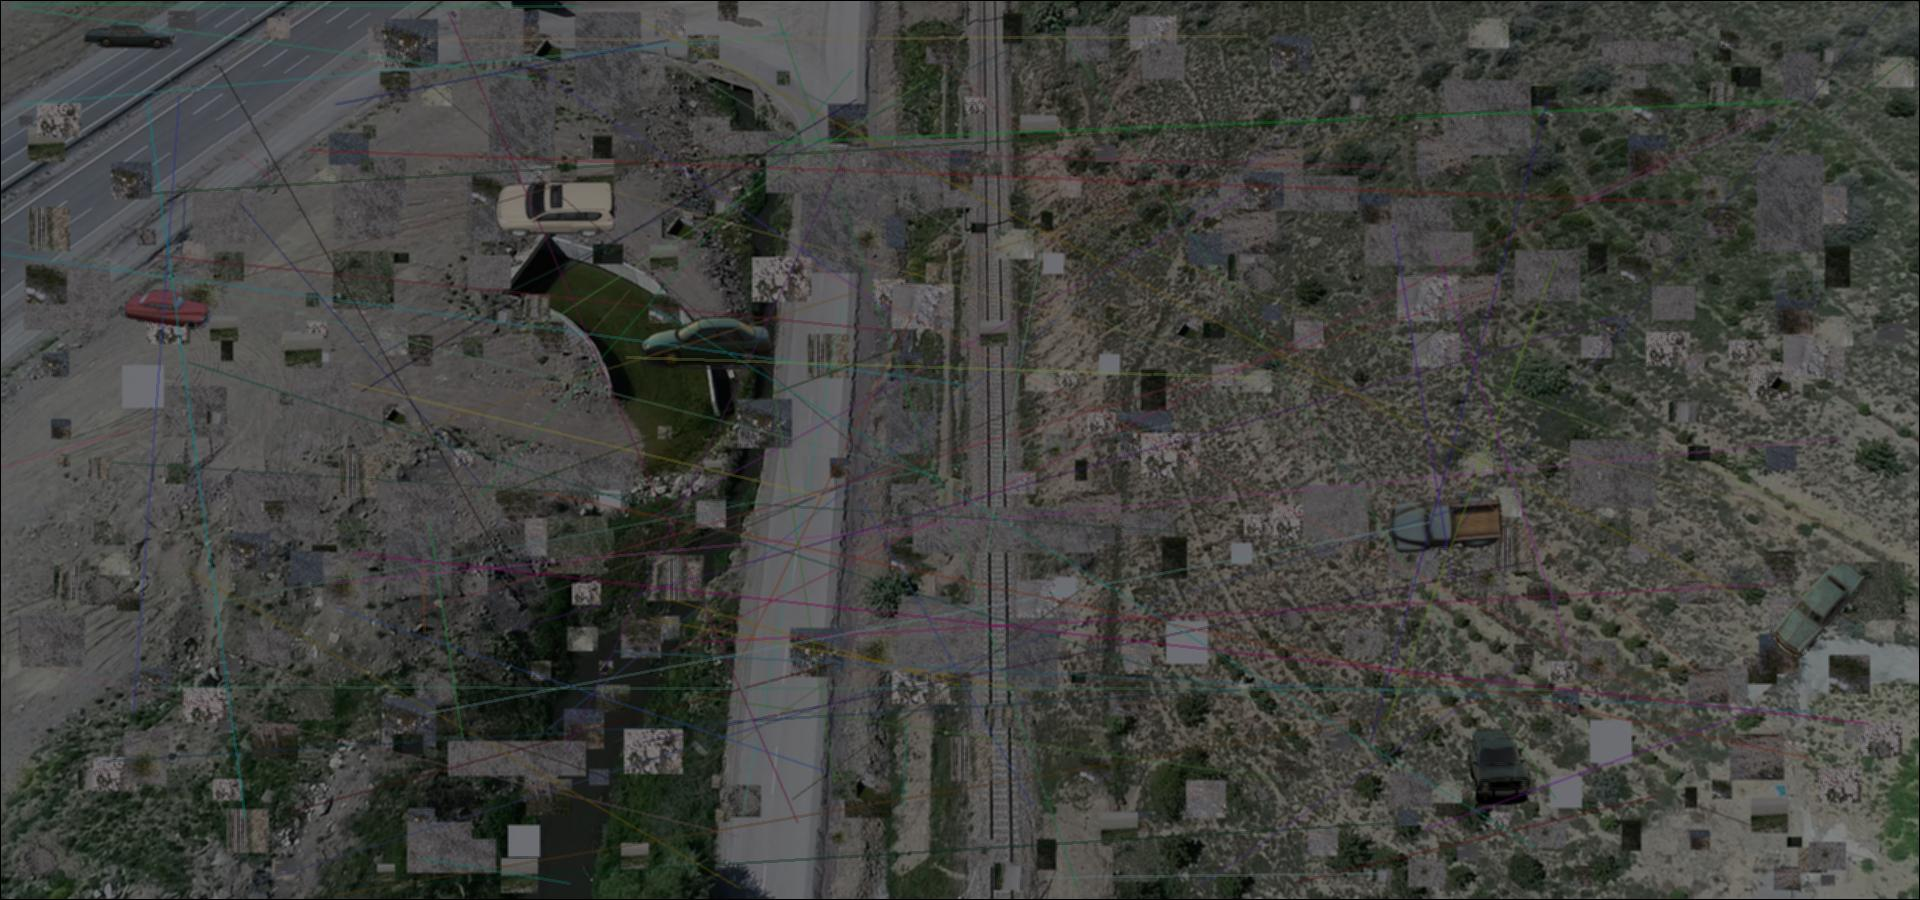arac: (1774, 553, 1867, 658), (489, 176, 622, 238), (1387, 490, 1505, 553), (639, 315, 778, 369), (1464, 727, 1532, 806), (120, 288, 211, 331), (80, 20, 178, 50)
